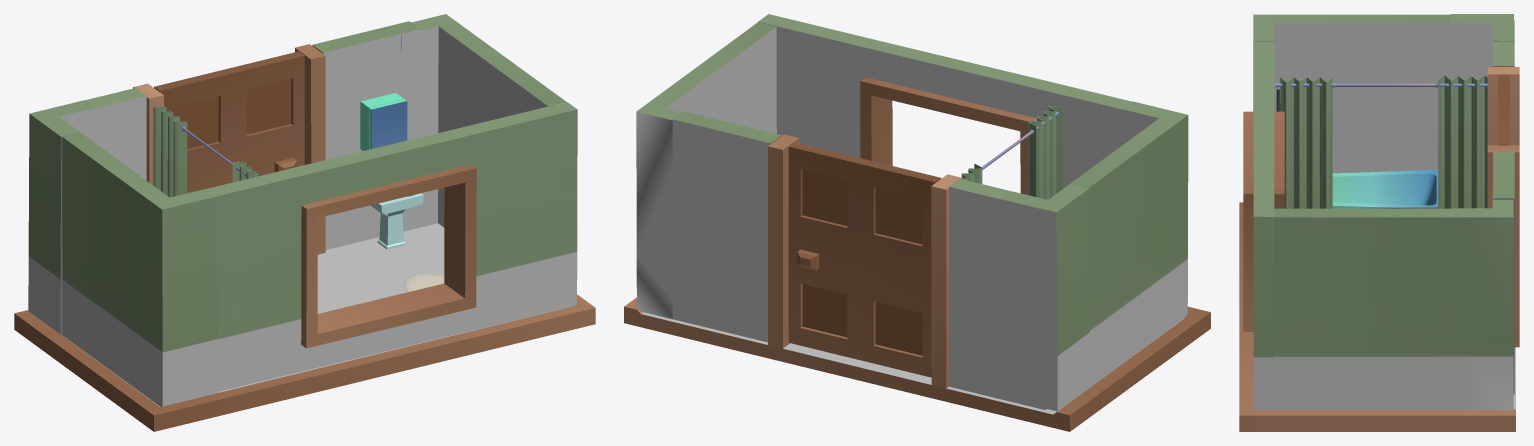
Rendered from BAÑO completa color VERDE.fbx.
The picture shows the model from 3 angles, left to right: view 1: azimuth 30°, elevation 25°; view 2: azimuth 150°, elevation 25°; view 3: azimuth 270°, elevation 25°; orthographic projection.
Visible parts, largest first — view 1: paret_ventana2, paret_estrecha1, suelo, paret_puerta17, puerta14, paret_estrecha2, paret_esquina_34, cortina, cajon, pica; view 2: paret_puerta17, puerta14, paret_ventana2, paret_estrecha1, paret_estrecha2, suelo, paret_esquina_34, cortina; view 3: paret_estrecha2, paret_estrecha1, cortina, paret_ventana2, suelo, paret_puerta17, bañera, paret_esquina_34, puerta14.
Boxes of the visible parts, left/top/right/bottom form: paret_ventana2: left=207, top=102, right=577, bottom=391; paret_estrecha1: left=59, top=117, right=217, bottom=406; suelo: left=14, top=223, right=595, bottom=431; paret_puerta17: left=60, top=21, right=420, bottom=254; puerta14: left=154, top=51, right=304, bottom=193; paret_estrecha2: left=401, top=14, right=566, bottom=231; paret_esquina_34: left=28, top=100, right=94, bottom=334; cortina: left=153, top=104, right=258, bottom=197; cajon: left=360, top=93, right=407, bottom=150; pica: left=370, top=193, right=423, bottom=249; paret_puerta17: left=672, top=111, right=1045, bottom=409; puerta14: left=788, top=142, right=941, bottom=377; paret_ventana2: left=758, top=14, right=1131, bottom=194; paret_estrecha1: left=1048, top=101, right=1188, bottom=386; paret_estrecha2: left=636, top=22, right=776, bottom=318; suelo: left=624, top=297, right=1210, bottom=431; paret_esquina_34: left=1001, top=184, right=1089, bottom=411; cortina: left=961, top=106, right=1063, bottom=199; paret_estrecha2: left=1274, top=191, right=1513, bottom=410; paret_estrecha1: left=1253, top=14, right=1492, bottom=173; cortina: left=1275, top=75, right=1487, bottom=208; paret_ventana2: left=1243, top=41, right=1284, bottom=410; suelo: left=1239, top=202, right=1515, bottom=431; paret_puerta17: left=1487, top=20, right=1519, bottom=394; bañera: left=1276, top=89, right=1438, bottom=208; paret_esquina_34: left=1451, top=14, right=1514, bottom=41; puerta14: left=1498, top=74, right=1509, bottom=145.
Bounding box in the file's own units: 791 × 365 × 439.
